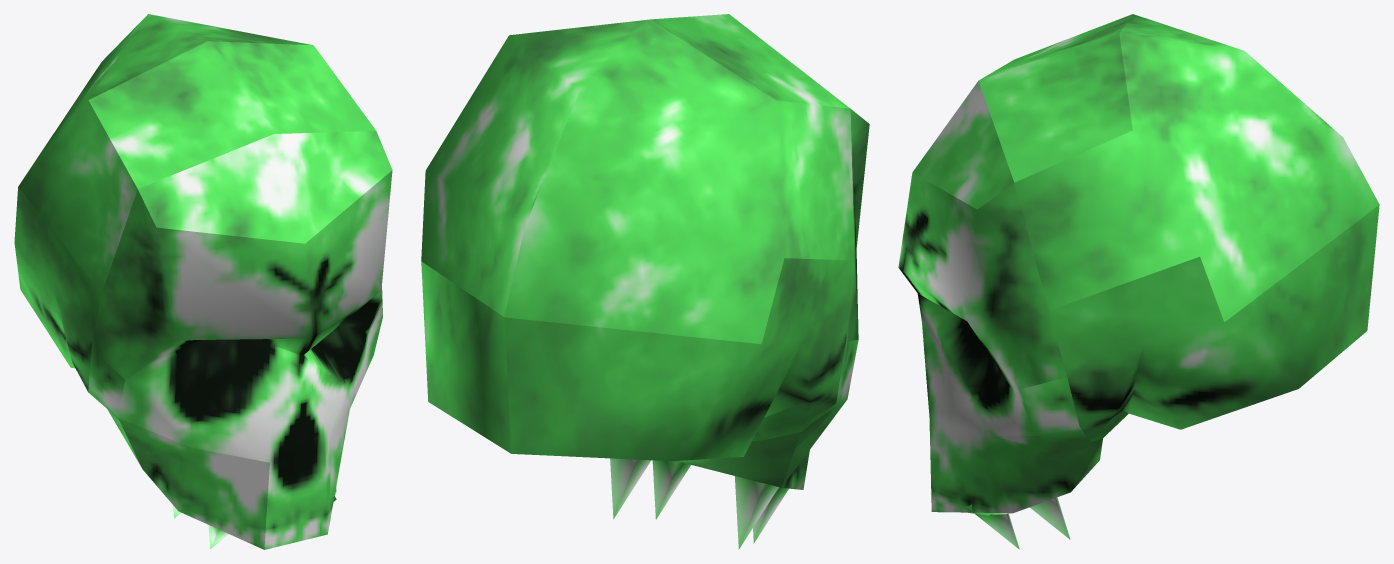
File: CR_ANYANSHU_AF.fbx
3 renders of one model, left to right at view 1: azimuth 30°, elevation 25°; view 2: azimuth 150°, elevation 25°; view 3: azimuth 270°, elevation 25°, orthographic. The views are drawn at different scales.
Parts seen in each view (by area): view 1: kuloutou; view 2: kuloutou; view 3: kuloutou.
Part boxes in pixels (box(x1,y1,x2,y2)): kuloutou: box(14, 14, 392, 549); kuloutou: box(421, 14, 869, 549); kuloutou: box(898, 14, 1379, 549).
Bounding box in the file's own units: 0.1719 × 0.2535 × 0.2237.
